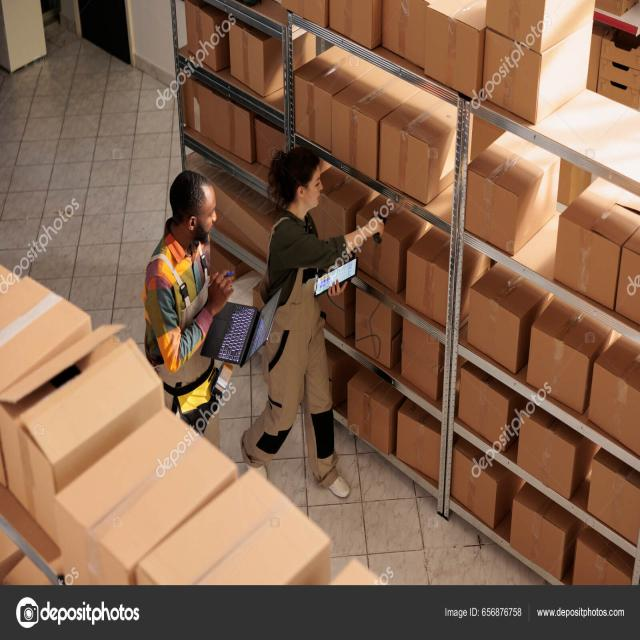box: (28, 285, 153, 503), (150, 480, 342, 611), (65, 424, 228, 570), (468, 144, 563, 252), (556, 195, 623, 317), (386, 93, 450, 208), (535, 299, 595, 419), (511, 474, 574, 578), (472, 257, 527, 371), (485, 33, 547, 130), (351, 203, 410, 299), (452, 432, 508, 532), (430, 2, 486, 100), (519, 412, 582, 499), (459, 367, 519, 452), (570, 529, 640, 598), (408, 237, 457, 330), (347, 363, 396, 456), (311, 166, 357, 262), (338, 78, 382, 178), (592, 446, 640, 534), (400, 317, 447, 406), (603, 332, 640, 444), (490, 0, 594, 38), (189, 90, 252, 152), (400, 403, 443, 490), (348, 292, 396, 369), (294, 59, 335, 147), (228, 27, 274, 102), (184, 2, 221, 77)
